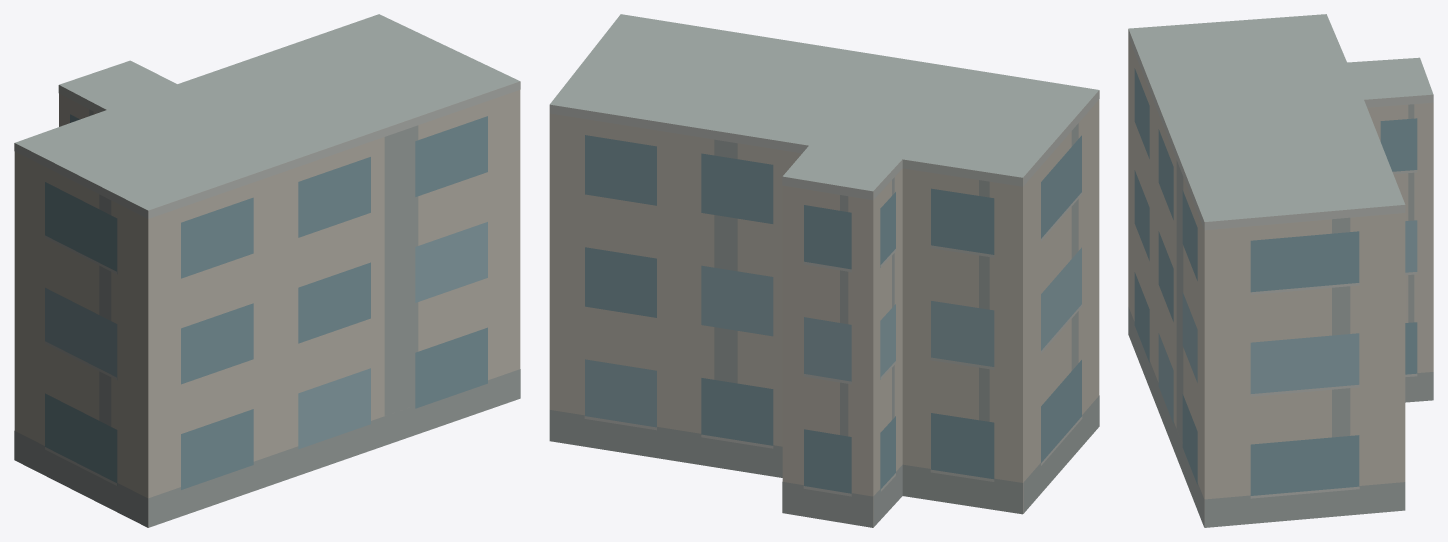
The model's file is survey-upis-32882154.glb.
The picture shows the model from 3 angles, left to right: view 1: azimuth 30°, elevation 25°; view 2: azimuth 150°, elevation 25°; view 3: azimuth 270°, elevation 25°; orthographic projection. The views are drawn at different scales.
Parts seen in each view (by area): view 1: survey-upis-32882154.tmp; view 2: survey-upis-32882154.tmp; view 3: survey-upis-32882154.tmp.
Part boxes in pixels (x1,y1,x2,y2): survey-upis-32882154.tmp: (14,14,520,527); survey-upis-32882154.tmp: (549,14,1099,527); survey-upis-32882154.tmp: (1128,14,1433,527).
Size of the model in its own units: 13.37 by 9.15 by 8.29.
